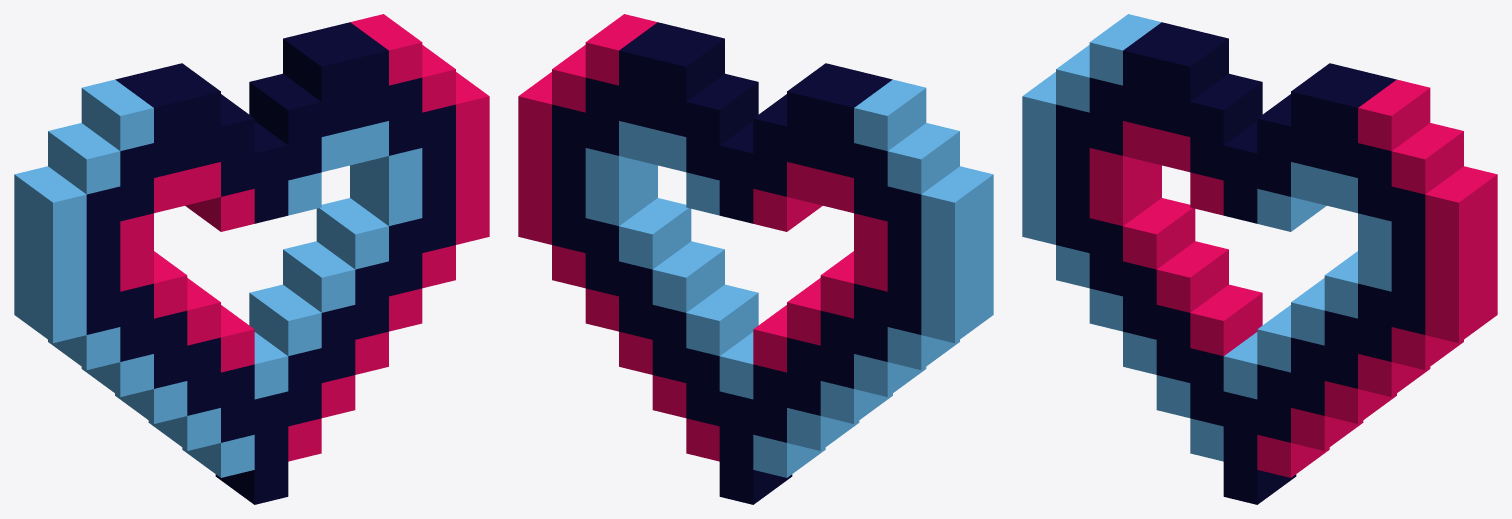
The model's file is Heart1.obj.
3 views of the same model, side by side, from view 1: azimuth 30°, elevation 25°; view 2: azimuth 150°, elevation 25°; view 3: azimuth 330°, elevation 25° (orthographic).
Size of the model in its own units: 1.3 by 1.2 by 0.2.
Materials: 1 (1 with a texture image).
